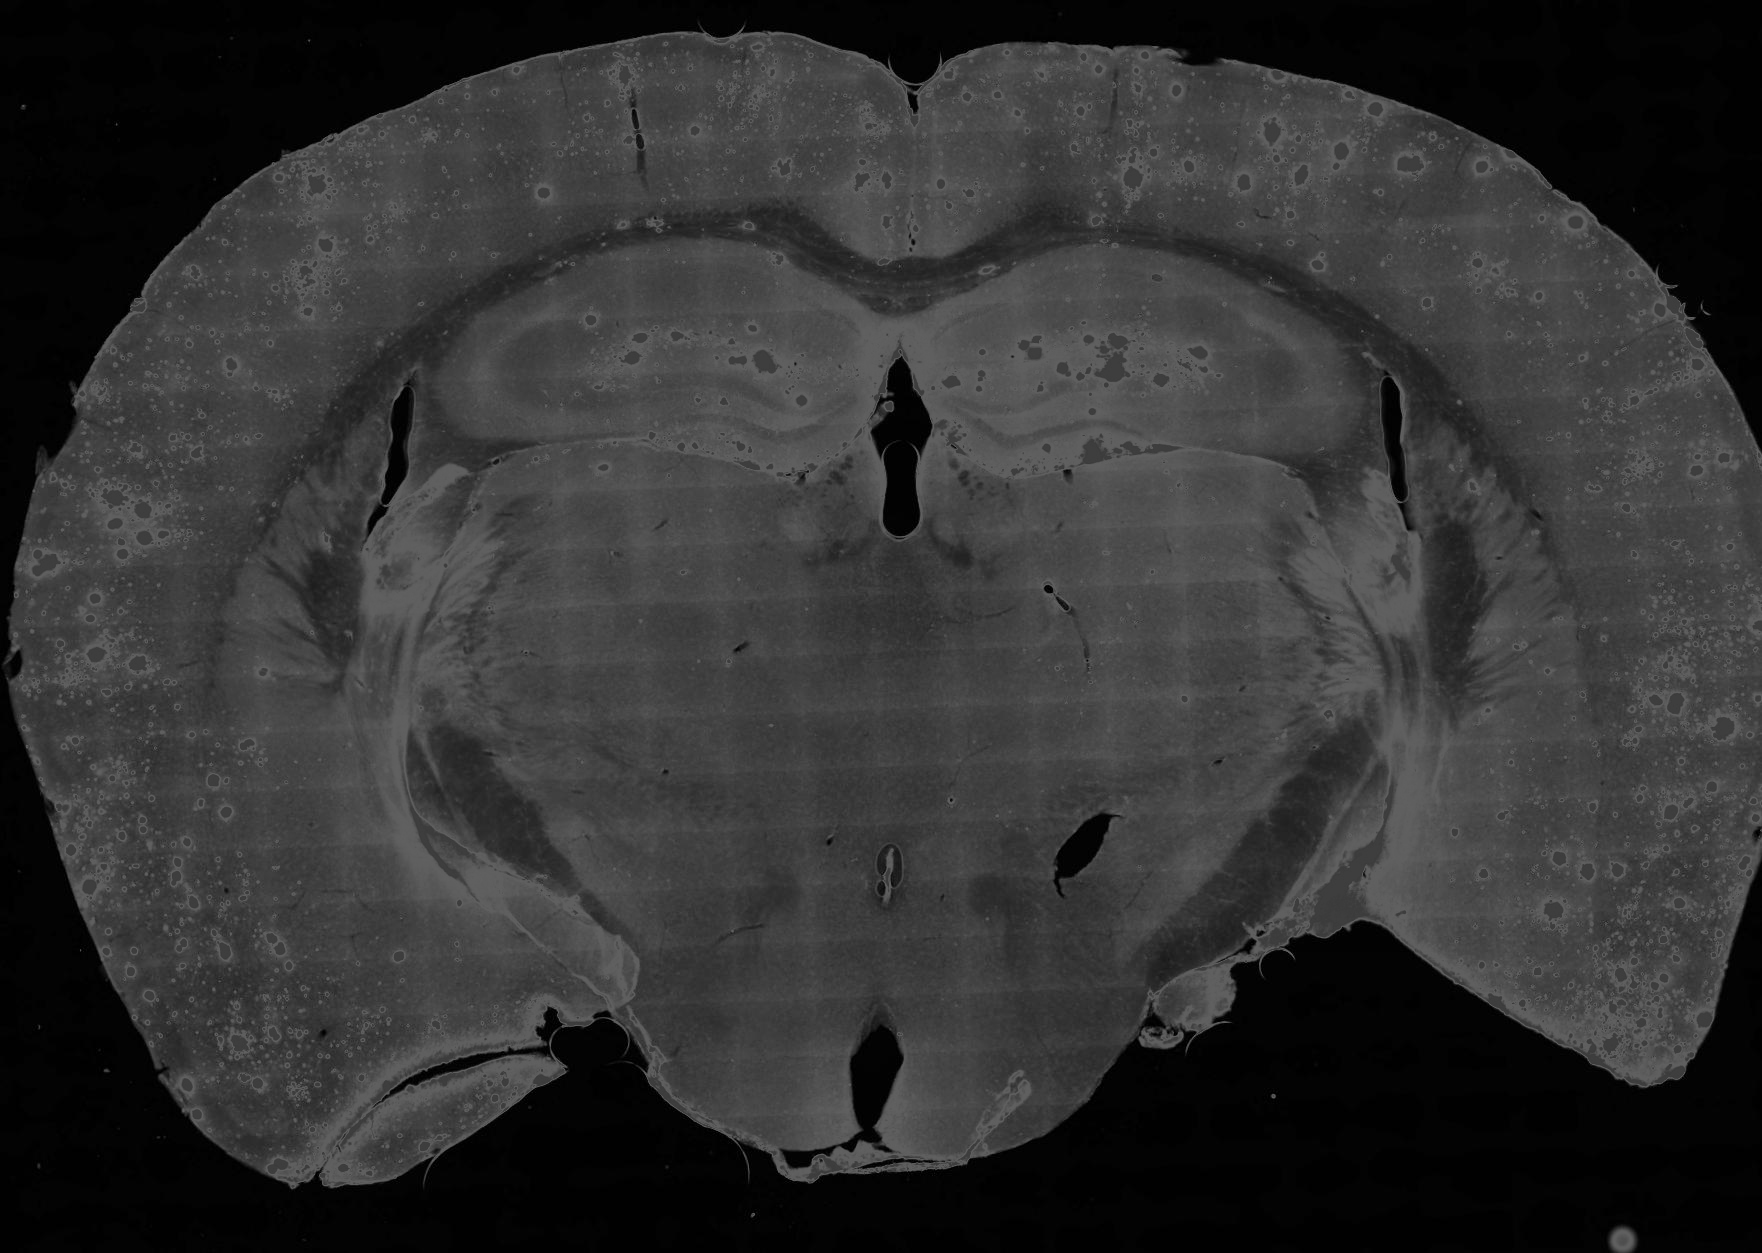Cerebral nuclei: (220, 395, 388, 877), (1419, 412, 1586, 835)
Hippocampal formation: (432, 237, 901, 475), (901, 243, 1364, 480)
Hypothalamus: (869, 731, 1332, 1166), (491, 750, 896, 1153)
Retrosplenial area: (911, 42, 1036, 258), (792, 49, 915, 264)
Somatosensory area: (24, 39, 655, 575), (1190, 58, 1757, 517)
Thalamus: (895, 426, 1382, 815), (417, 427, 899, 804)
